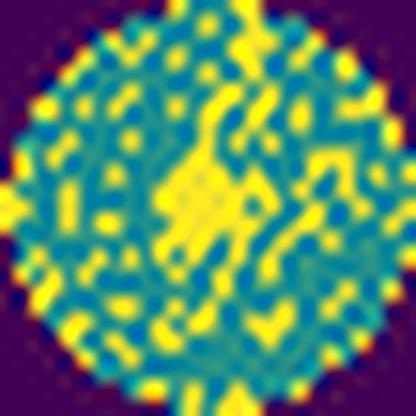Center: (144, 82, 284, 290)
